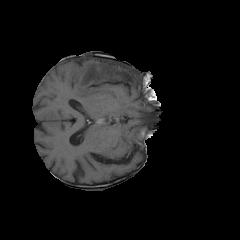glioma: (73, 58, 150, 98)
